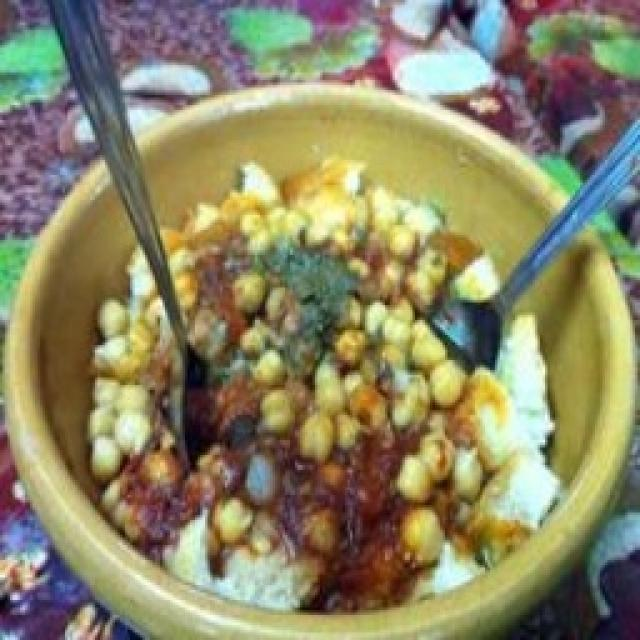Lablabi: (25, 85, 632, 640)
